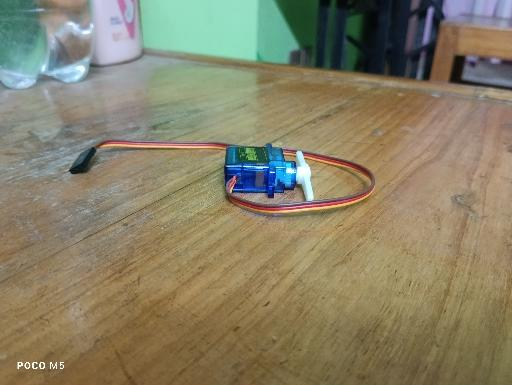Motor: (224, 142, 314, 205)
